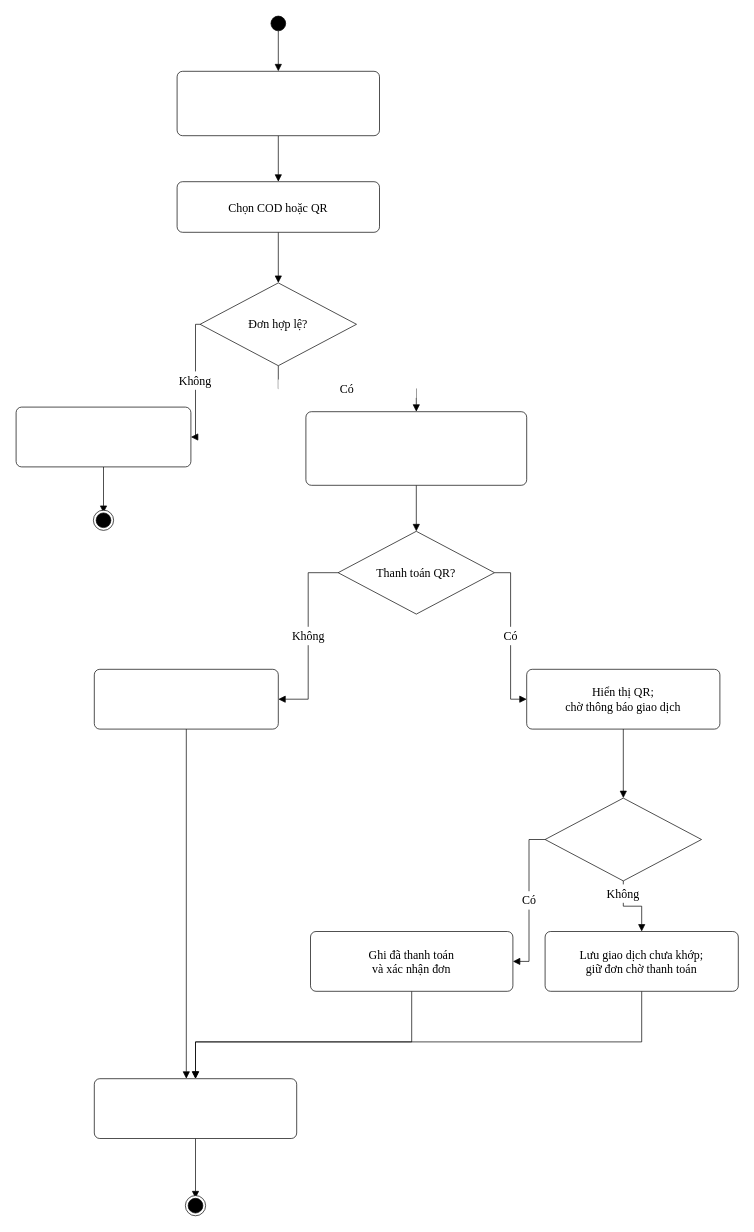
Image size: 754x1232. Some labels were removed from this diagram. Here are the shapes that lost their labels. From the top down, the centre of each, then its label:
At (x=277, y=103): "Đăng nhập; chọn sản phẩm và nhập địa chỉ nhận hàng".
At (x=103, y=436): "Báo lỗi; yêu cầu cập nhật thông tin".
At (x=416, y=448): "Trong một giao dịch: đọc giá, trừ tồn và tạo đơn".
At (x=185, y=698): "Ghi chờ thu tiền COD".
At (x=622, y=839): "Giao dịch khớp?".
At (x=195, y=1108): "Hiển thị và theo dõi đơn".
